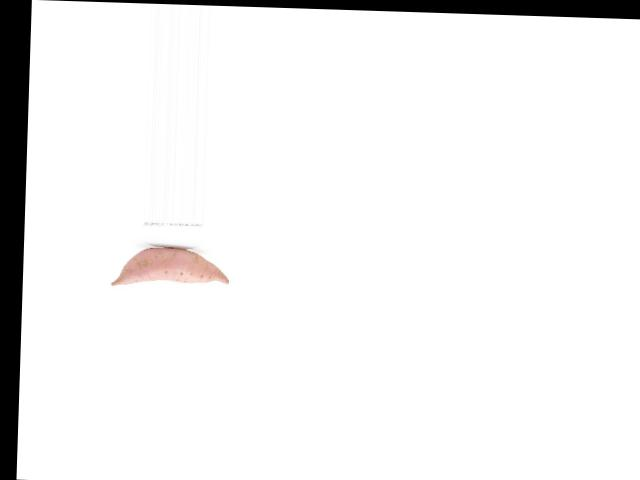sweet_potato: (109, 244, 231, 295)
